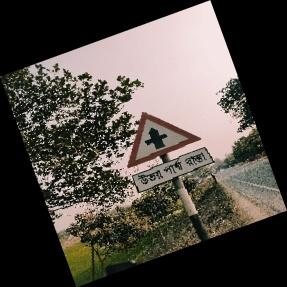Crossroad: (127, 112, 213, 243)
